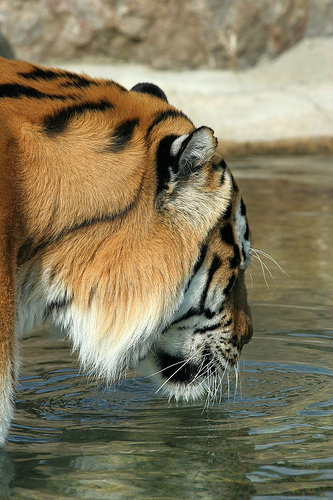Tigre: (11, 24, 257, 420)
